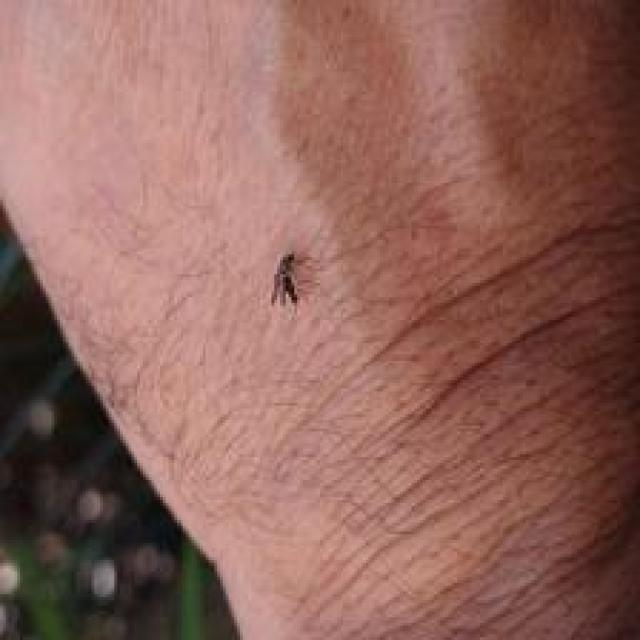Aedes albopictus: (268, 248, 303, 308)
